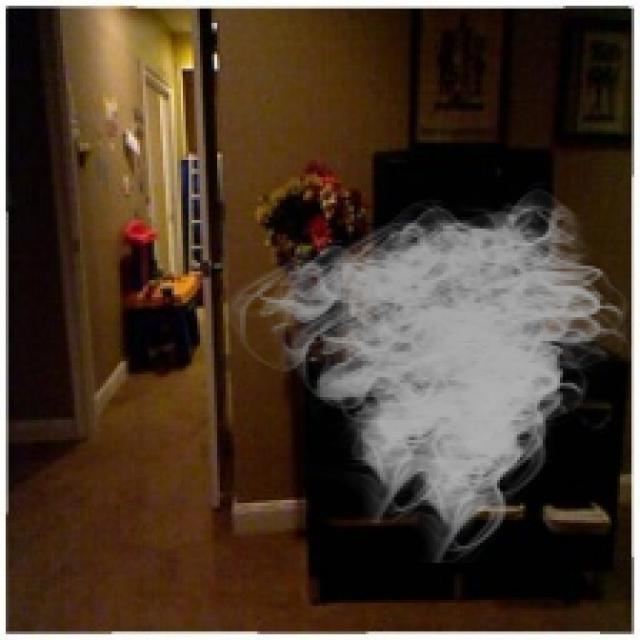Smoke: (222, 180, 638, 566)
